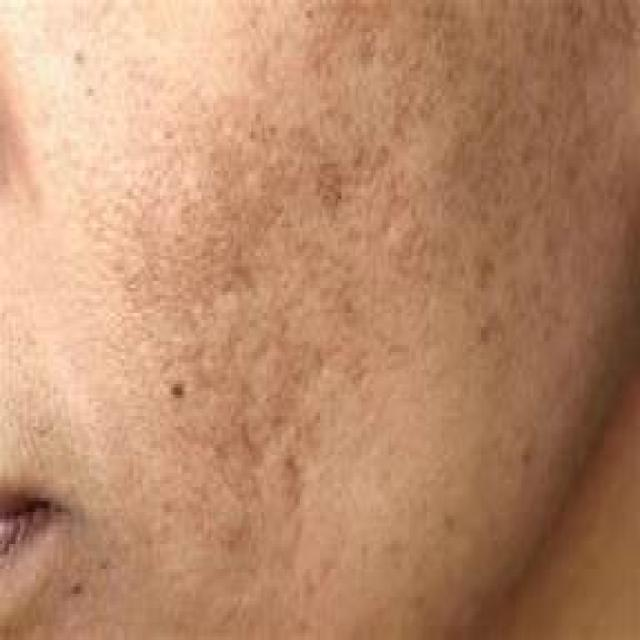pigmentation: (170, 128, 348, 458)
